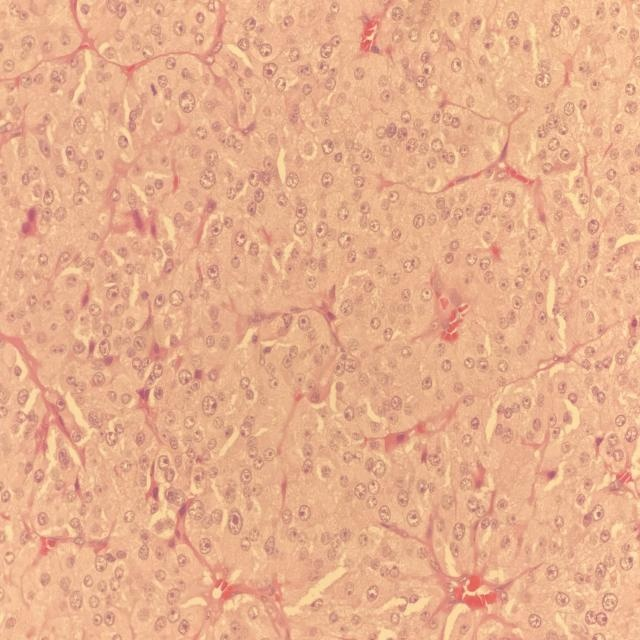TC: (526, 58, 559, 105), (165, 83, 201, 125), (65, 105, 99, 145), (288, 304, 319, 341), (581, 497, 610, 535), (399, 501, 432, 534), (336, 290, 364, 328), (308, 212, 338, 247), (223, 224, 254, 256), (497, 179, 523, 217), (404, 206, 432, 240), (191, 166, 221, 197), (258, 54, 283, 90), (194, 391, 225, 420), (315, 160, 341, 193), (288, 501, 322, 525), (225, 505, 249, 539), (167, 362, 195, 391), (460, 243, 483, 278), (152, 447, 176, 480), (369, 452, 395, 481), (413, 282, 439, 310), (342, 397, 363, 429), (168, 282, 188, 315), (585, 211, 606, 241), (373, 83, 395, 110)
